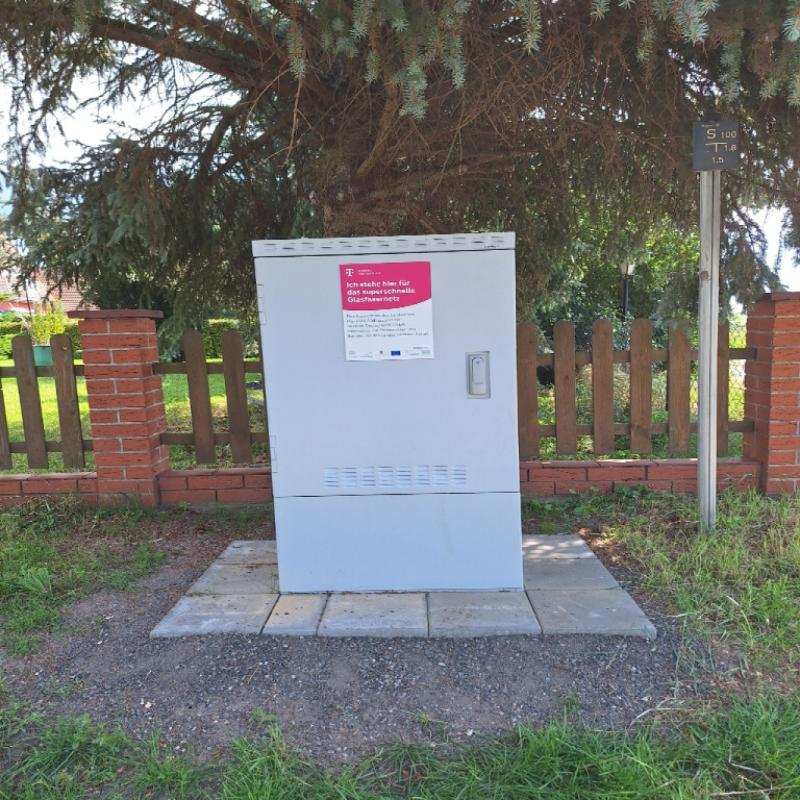NT-Gehause: (248, 236, 522, 593)
Steaker: (338, 258, 431, 364)
